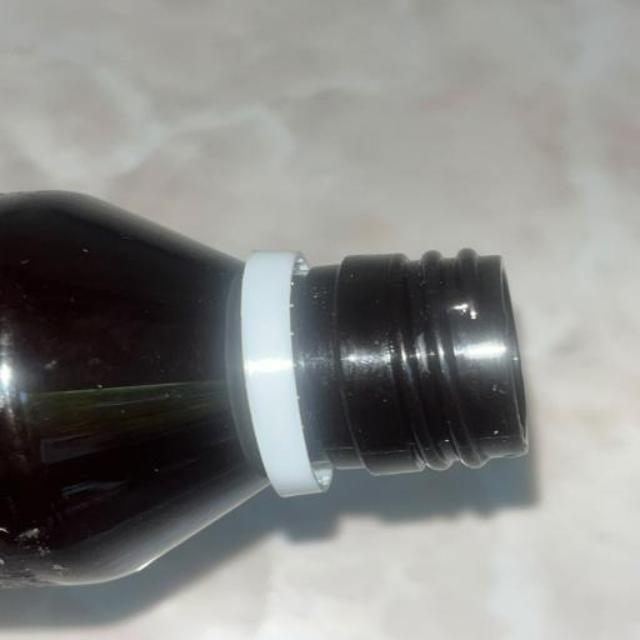HDPE: (0, 175, 565, 616)
